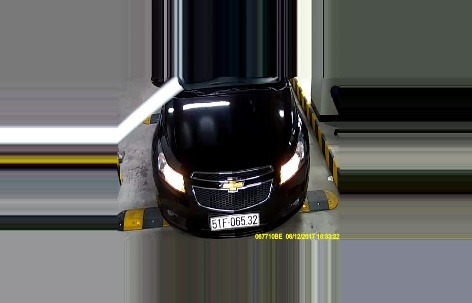plate: (209, 213, 259, 228)
